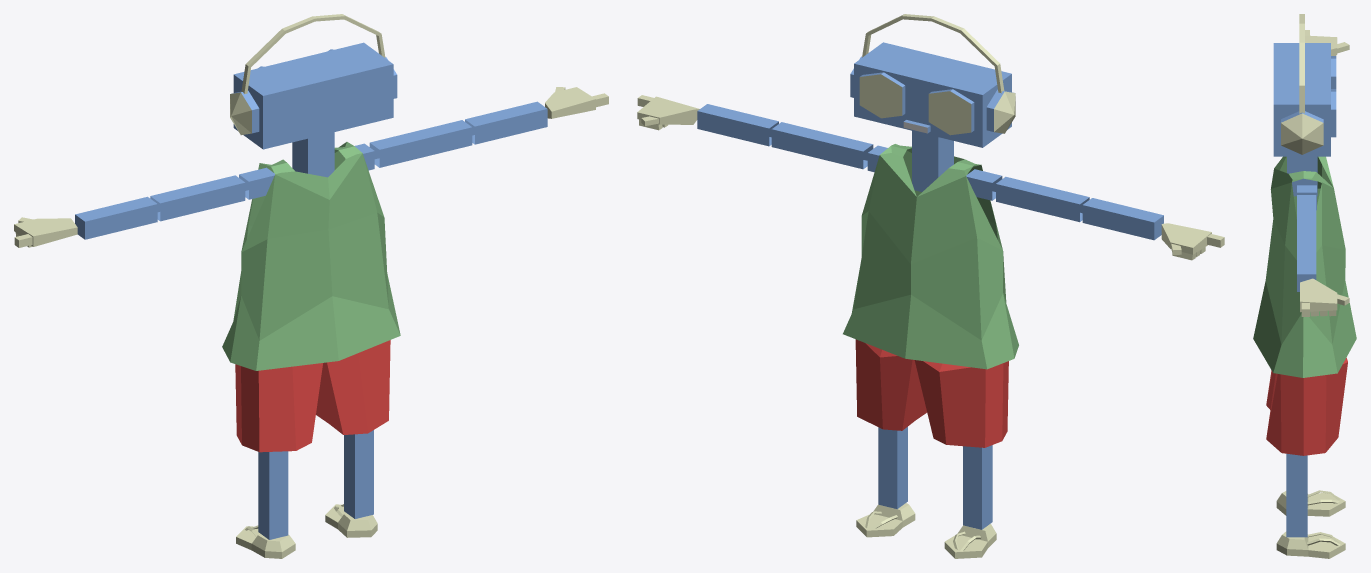
File: sarrada.fbx
3 renders of one model, left to right at view 1: azimuth 30°, elevation 25°; view 2: azimuth 150°, elevation 25°; view 3: azimuth 270°, elevation 25°, orthographic. The views are drawn at different scales.
Parts seen in each view (by area): view 1: Cube.005, Cube.004, Cube.017, Cube.018, Cube.002, Cube.011, Cube.009, Cube.006, Cube.013, Cube.014, Cube.010, Cube.008 (+4 smaller); view 2: Cube.005, Cube.004, Cube.017, Cube.018, Cube.002, Cube.009, Cube.011, Cube.006, Cube.013, Cube.014, Cube.010, Cube.001 (+4 smaller); view 3: Cube.005, Cube.004, Cube.018, Cube.006, Cube.007, Cube.001, Cube.012, Cube.002, Cube.014, Cube.010, Cube.008, Cube.015 (+1 smaller).
Boxes of the visible parts, x1=… form: Cube.005: x1=222, y1=142, x2=400, y2=370; Cube.004: x1=230, y1=14, x2=397, y2=149; Cube.017: x1=235, y1=363, x2=322, y2=452; Cube.018: x1=316, y1=340, x2=390, y2=434; Cube.002: x1=369, y1=120, x2=472, y2=167; Cube.011: x1=258, y1=451, x2=288, y2=539; Cube.009: x1=150, y1=175, x2=245, y2=221; Cube.006: x1=344, y1=430, x2=373, y2=518; Cube.013: x1=75, y1=196, x2=157, y2=239; Cube.014: x1=465, y1=101, x2=547, y2=144; Cube.010: x1=292, y1=132, x2=334, y2=177; Cube.008: x1=14, y1=217, x2=77, y2=247; Cube.005: x1=843, y1=144, x2=1018, y2=369; Cube.004: x1=850, y1=14, x2=1015, y2=147; Cube.017: x1=914, y1=360, x2=1008, y2=447; Cube.018: x1=855, y1=339, x2=926, y2=430; Cube.002: x1=771, y1=122, x2=873, y2=169; Cube.009: x1=996, y1=176, x2=1089, y2=222; Cube.011: x1=963, y1=445, x2=992, y2=529; Cube.006: x1=878, y1=427, x2=907, y2=509; Cube.013: x1=1082, y1=198, x2=1163, y2=240; Cube.014: x1=697, y1=104, x2=778, y2=146; Cube.010: x1=912, y1=131, x2=953, y2=191; Cube.001: x1=637, y1=95, x2=699, y2=130; Cube.005: x1=1253, y1=156, x2=1356, y2=377; Cube.004: x1=1273, y1=14, x2=1336, y2=156; Cube.018: x1=1266, y1=358, x2=1347, y2=455; Cube.006: x1=1286, y1=453, x2=1307, y2=537; Cube.007: x1=1276, y1=531, x2=1345, y2=558; Cube.001: x1=1300, y1=278, x2=1349, y2=316; Cube.012: x1=1276, y1=490, x2=1345, y2=516; Cube.002: x1=1297, y1=195, x2=1316, y2=239; Cube.014: x1=1297, y1=240, x2=1316, y2=291; Cube.010: x1=1287, y1=156, x2=1317, y2=196; Cube.008: x1=1305, y1=30, x2=1349, y2=55; Cube.015: x1=1297, y1=185, x2=1316, y2=210.
Size of the model in its own units: 2306 by 1945 by 362.
